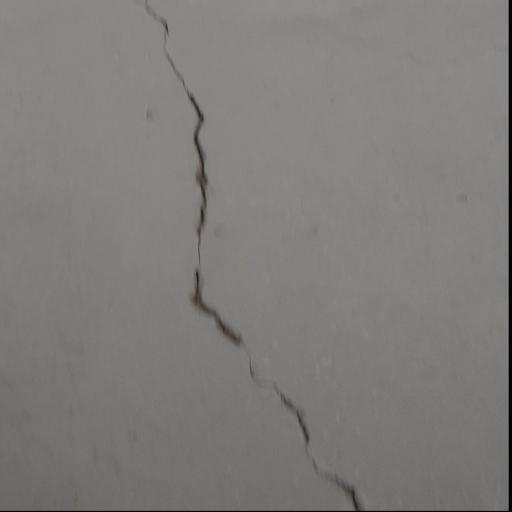major_crack: (138, 0, 373, 512)
